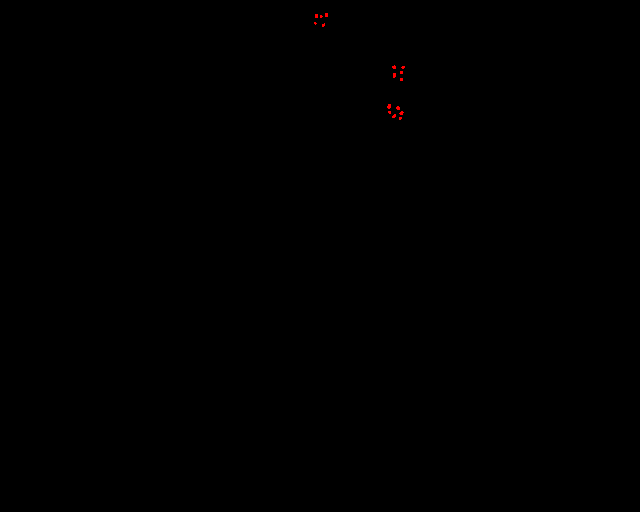Target: (387, 104, 391, 109), (399, 111, 404, 115), (392, 65, 396, 69), (396, 106, 400, 110), (392, 114, 396, 118), (393, 73, 396, 78), (325, 13, 328, 17), (315, 14, 318, 18), (322, 23, 325, 27), (401, 66, 405, 69), (320, 15, 323, 18), (314, 22, 317, 25), (400, 71, 403, 74), (400, 78, 403, 81), (388, 111, 391, 114), (399, 117, 402, 120)
